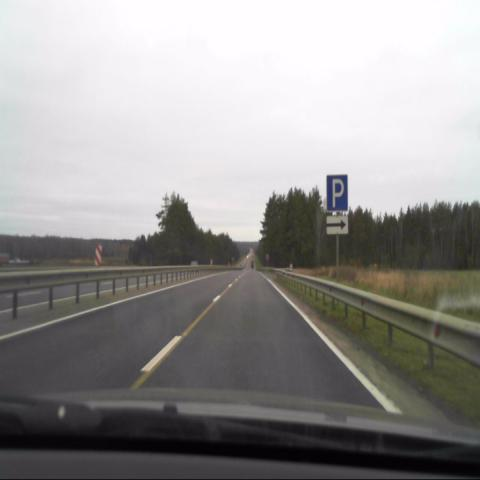6_4: (326, 175, 347, 211)
8_3_1: (326, 216, 348, 236)
